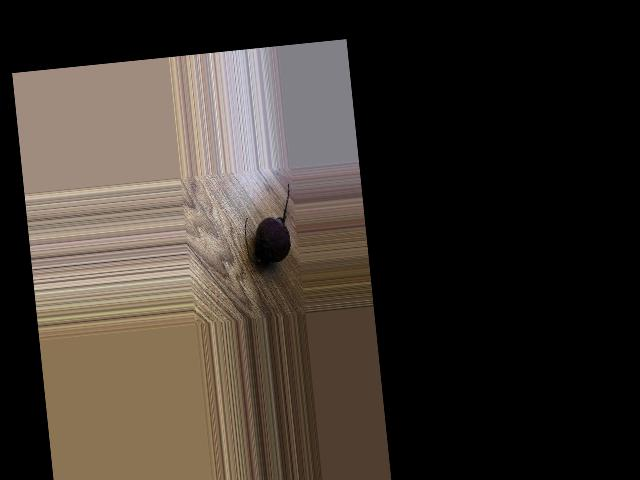beet: (240, 183, 297, 267)
